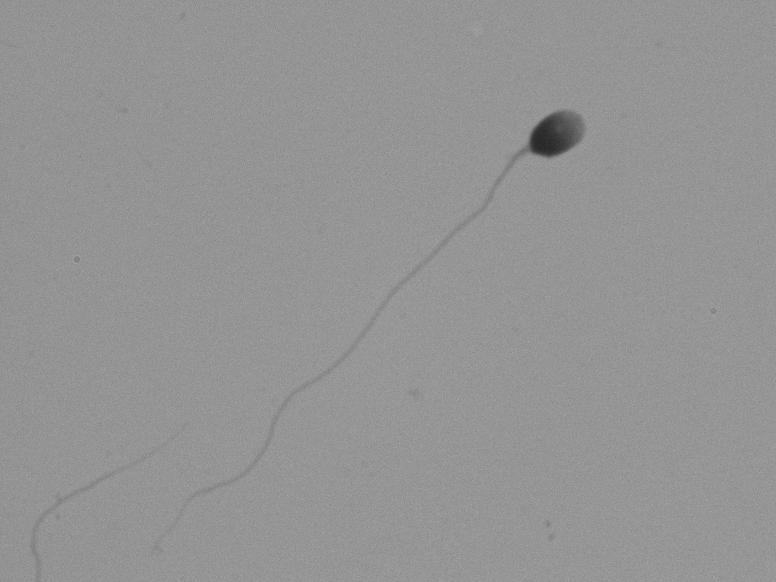Normal: (168, 84, 688, 498)
